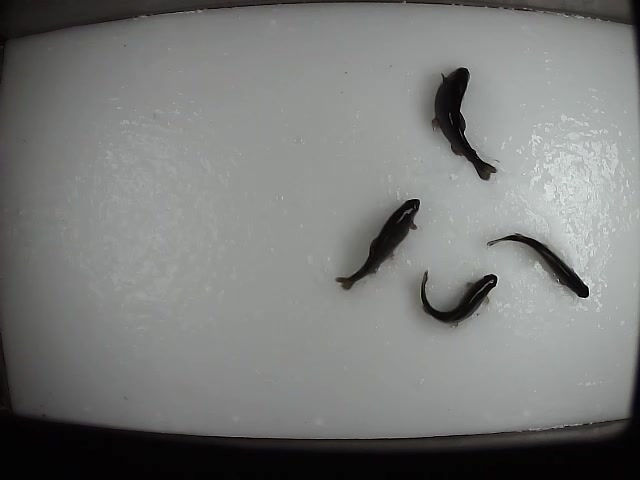Fish: (335, 198, 420, 291), (487, 227, 590, 302), (432, 66, 498, 181), (420, 270, 498, 324)
